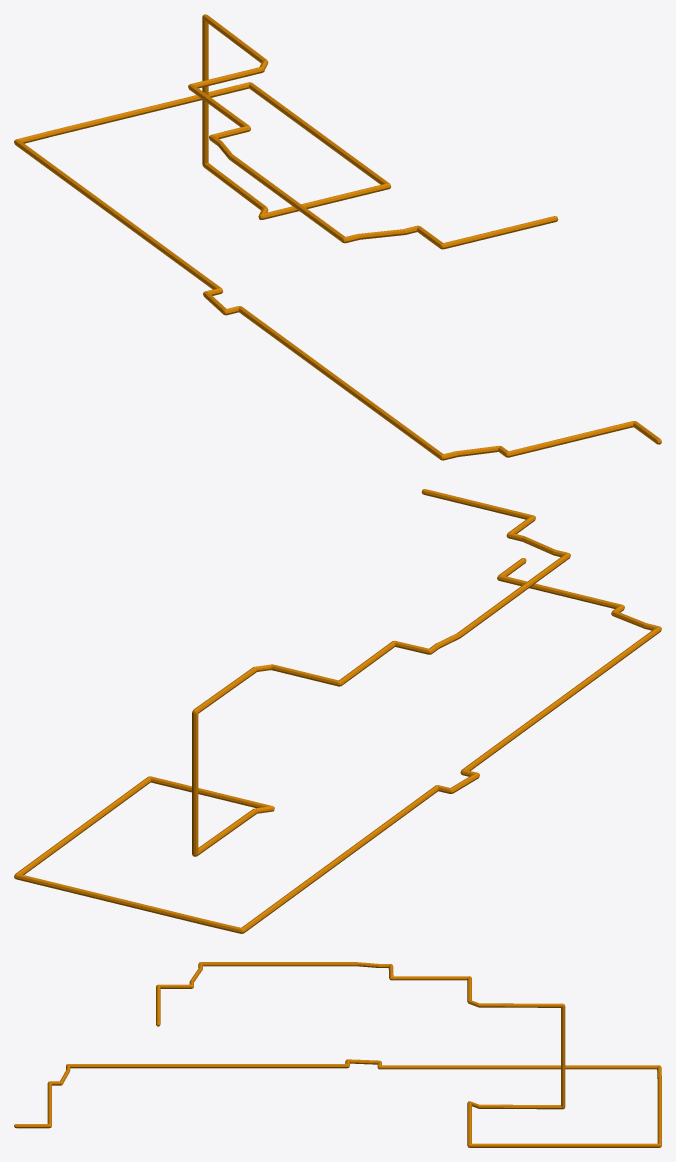
3 views of the same model, one above another, from view 1: azimuth 30°, elevation 25°; view 2: azimuth 150°, elevation 25°; view 3: azimuth 270°, elevation 25° (orthographic). The views are drawn at different scales.
Bounding box in the file's own units: 912 × 520 × 2898.
